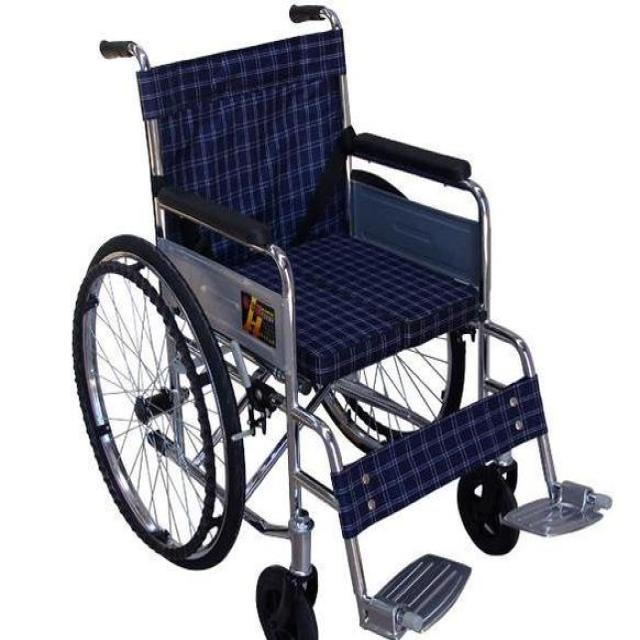wheelchairs: (38, 2, 634, 640)
